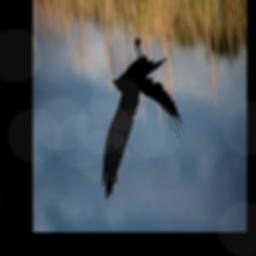Crow: (101, 36, 183, 200)
